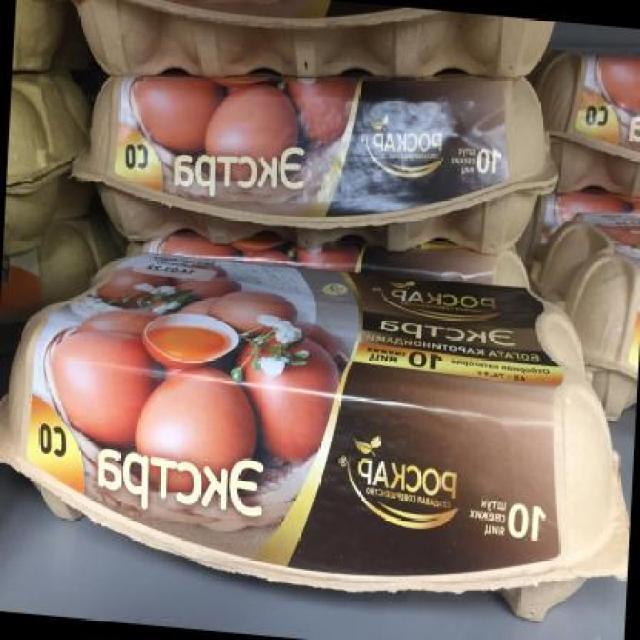Egg: (0, 243, 640, 639), (65, 42, 557, 281), (44, 0, 561, 108), (535, 204, 639, 418), (531, 31, 640, 207), (4, 73, 92, 247), (12, 0, 67, 74)
